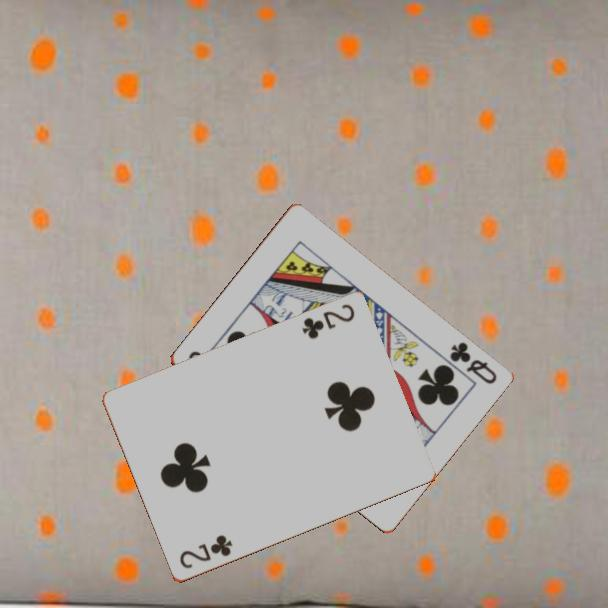c02: (298, 301, 358, 342), (176, 532, 235, 572)
c12: (446, 338, 499, 387)
